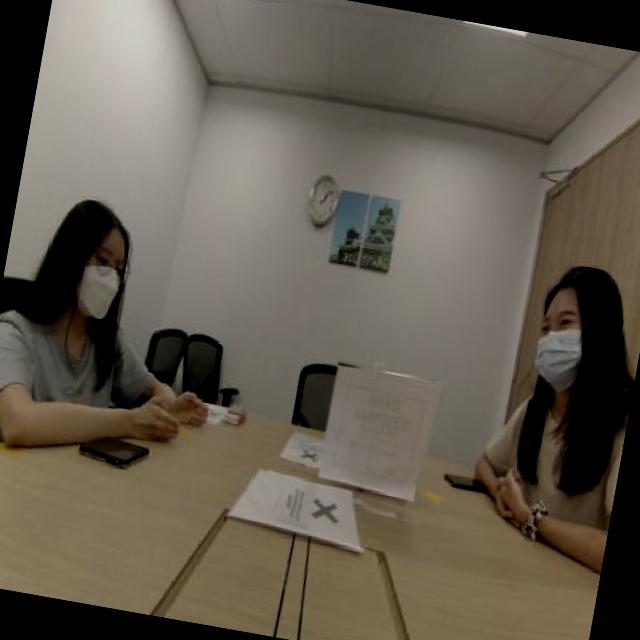Person: (0, 142, 221, 417), (445, 223, 640, 529)
